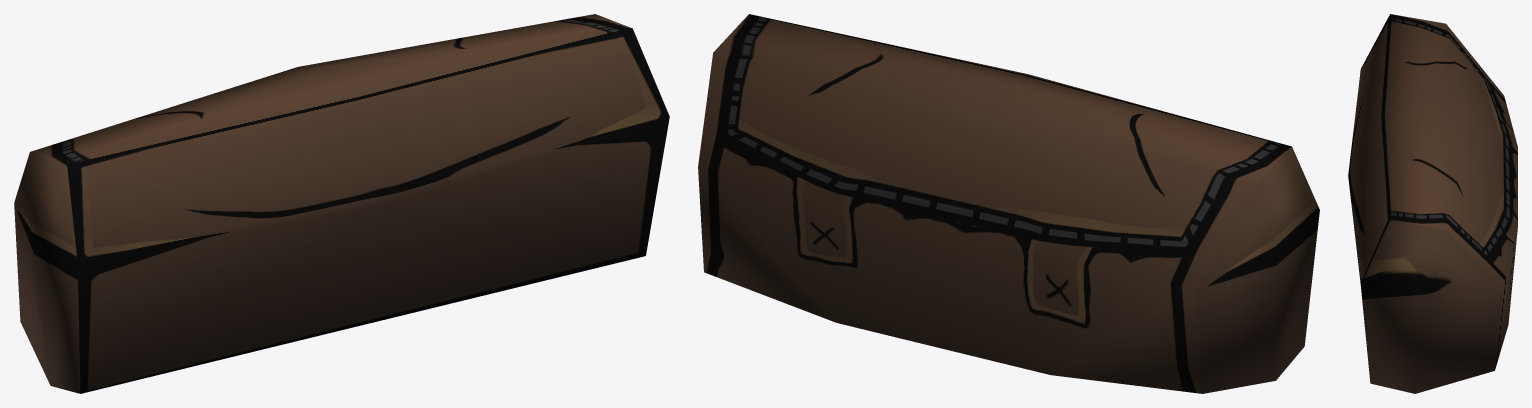
Rendered from mod_mod_bp_pocket03.fbx.
The picture shows the model from 3 angles, left to right: view 1: azimuth 30°, elevation 25°; view 2: azimuth 150°, elevation 25°; view 3: azimuth 270°, elevation 25°; orthographic projection. The views are drawn at different scales.
Parts seen in each view (by area): view 1: mod_mod_bp_pocket03; view 2: mod_mod_bp_pocket03; view 3: mod_mod_bp_pocket03.
Boxes of the visible parts, x1,y1,x2,y2 form: mod_mod_bp_pocket03: [14, 14, 669, 393]; mod_mod_bp_pocket03: [698, 14, 1319, 393]; mod_mod_bp_pocket03: [1348, 14, 1517, 393].
Bounding box in the file's own units: 45.78 × 18.8 × 15.17.
